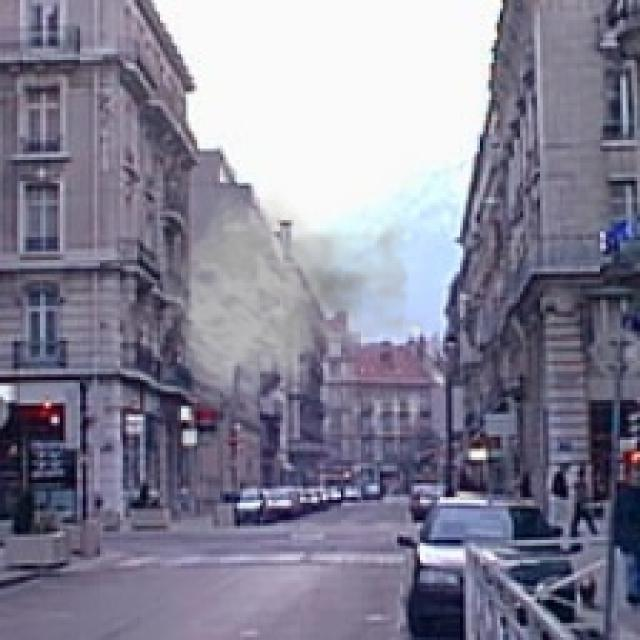smoke: (163, 183, 428, 406)
